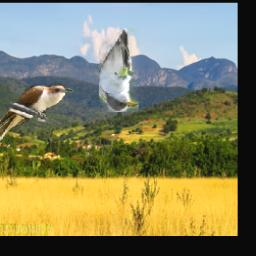Cuckoo: (0, 83, 72, 165), (98, 28, 138, 112)
